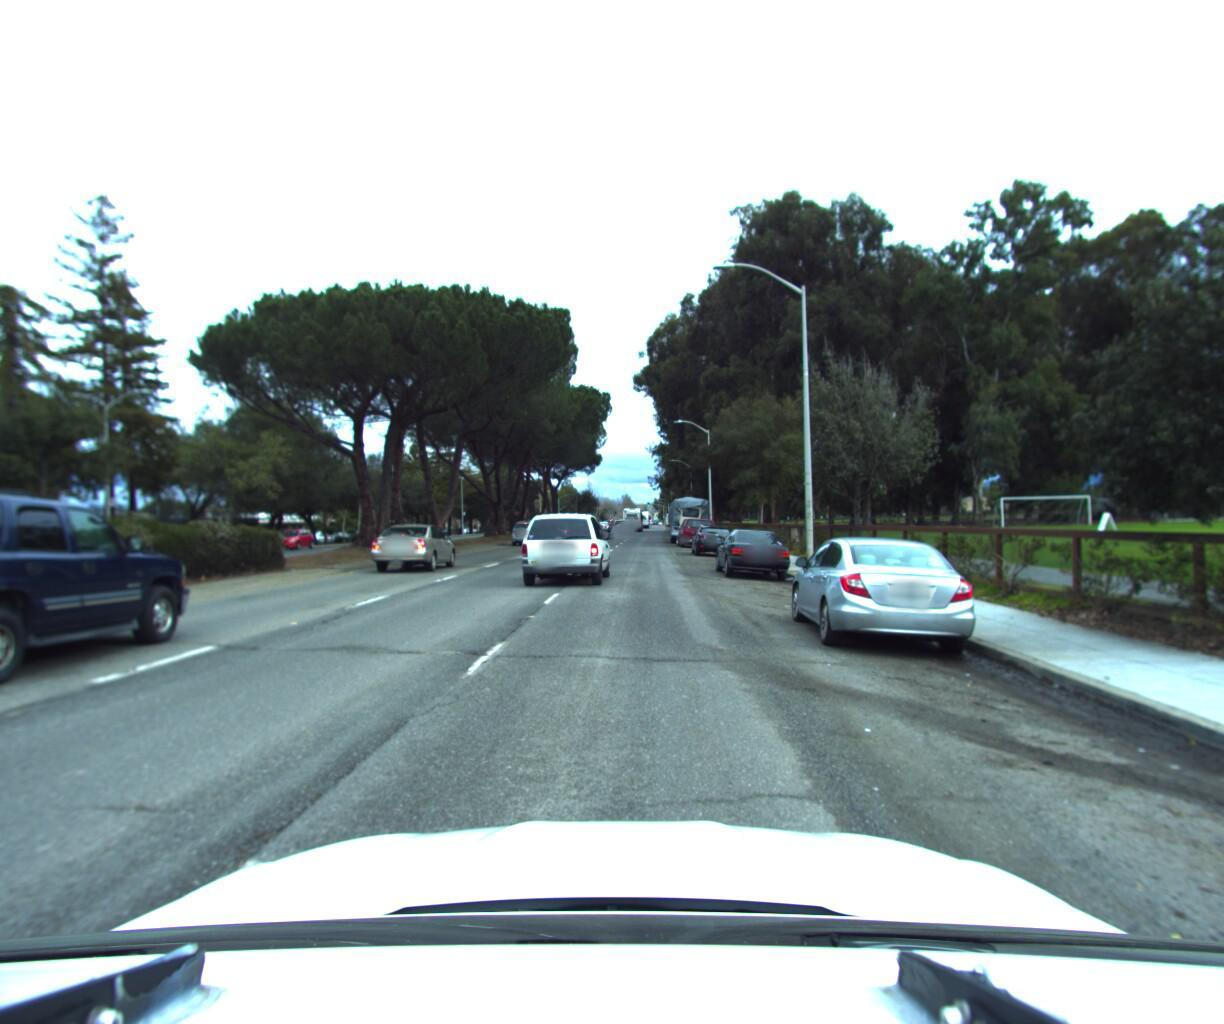car: (784, 527, 992, 664), (511, 503, 617, 588), (365, 518, 463, 574), (714, 523, 794, 579), (690, 520, 738, 555), (676, 513, 719, 546), (269, 526, 320, 553), (508, 516, 549, 545), (612, 517, 632, 534)
other_vehicle: (667, 491, 713, 541)
